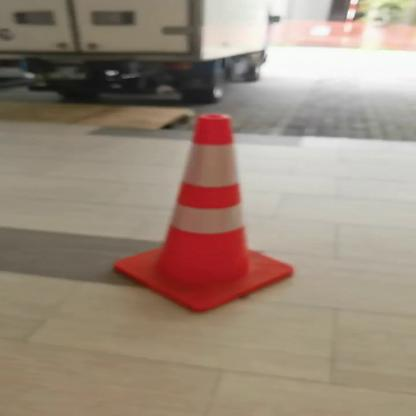cone: (109, 107, 297, 312)
